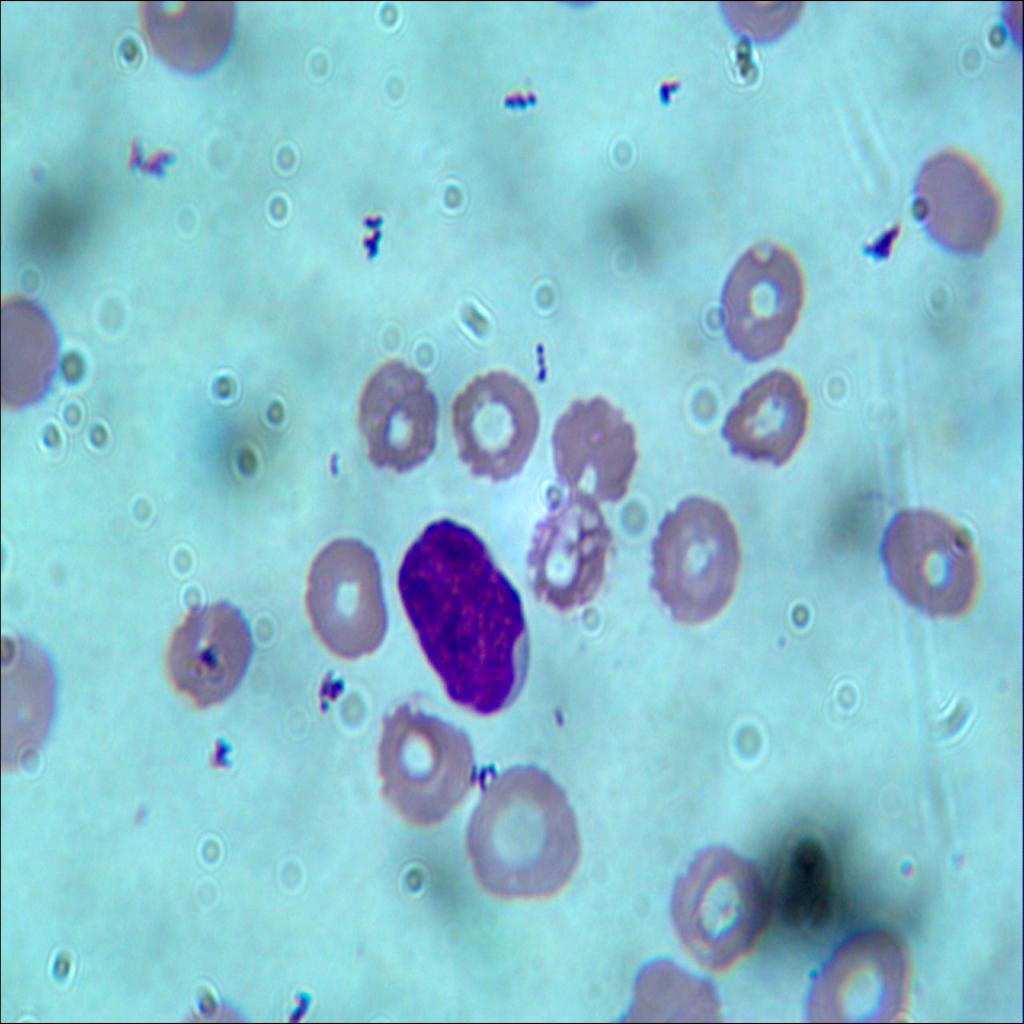Eritrosit: (151, 578, 251, 728), (466, 768, 580, 897), (876, 495, 982, 627), (646, 488, 739, 634), (298, 511, 392, 655), (349, 349, 443, 477), (675, 844, 774, 965), (546, 390, 648, 506), (454, 356, 544, 486), (713, 241, 808, 364), (799, 914, 909, 1019), (373, 708, 471, 824), (531, 486, 613, 616), (713, 364, 813, 468), (908, 142, 1002, 252), (138, 0, 241, 81), (0, 291, 61, 414)
Limfoblast: (395, 527, 541, 721)
Platelet: (646, 67, 676, 114), (541, 694, 573, 734), (192, 635, 222, 671)
